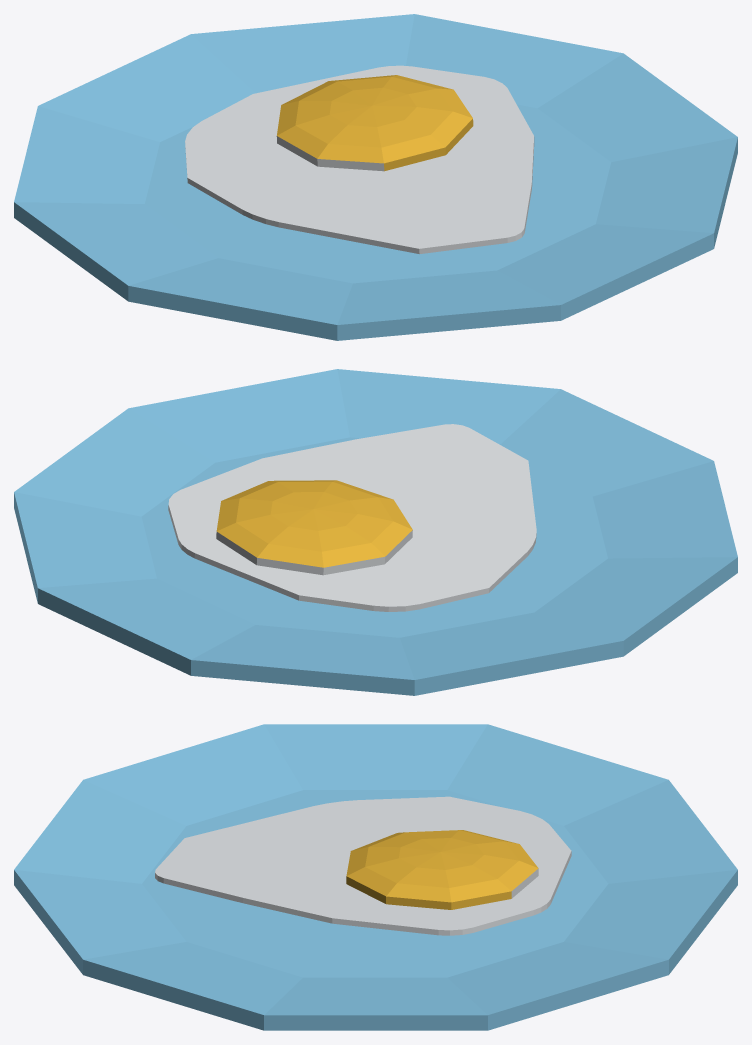
File: eggmeal.glb
3 renders of one model, top to bottom at view 1: azimuth 30°, elevation 25°; view 2: azimuth 150°, elevation 25°; view 3: azimuth 270°, elevation 25°, orthographic. The views are drawn at different scales.
Parts seen in each view (by area): view 1: Cylinder, egg; view 2: Cylinder, egg; view 3: Cylinder, egg.
Boxes of the visible parts, x1,y1,x2,y2 form: Cylinder: (14,14,737,340); egg: (185,65,534,254); Cylinder: (14,369,737,695); egg: (168,424,536,611); Cylinder: (14,724,737,1030); egg: (155,796,571,935).
Bounding box in the file's own units: 0.2566 × 0.0196 × 0.2698.
